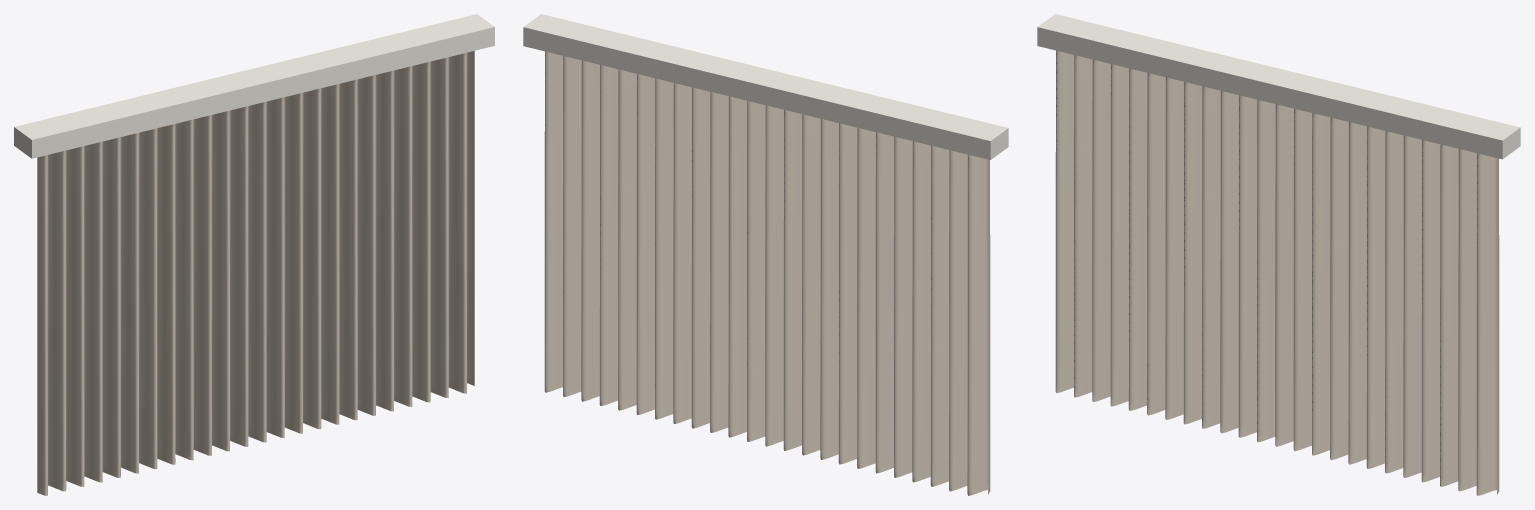
Rendered from curtain-elogi-1230-1.glb.
The picture shows the model from 3 angles, left to right: view 1: azimuth 30°, elevation 25°; view 2: azimuth 150°, elevation 25°; view 3: azimuth 330°, elevation 25°; orthographic projection.
Parts seen in each view (by area): view 1: OuterDrapeLeft, OuterDrapeRight, CeilingPelmetBox; view 2: OuterDrapeLeft, OuterDrapeRight, CeilingPelmetBox; view 3: OuterDrapeRight, OuterDrapeLeft, CeilingPelmetBox.
Part boxes in pixels (x1,y1,x2,y2): OuterDrapeLeft: (37, 104, 255, 495); OuterDrapeRight: (256, 51, 474, 442); CeilingPelmetBox: (14, 14, 494, 158); OuterDrapeLeft: (765, 105, 990, 495); OuterDrapeRight: (544, 51, 765, 441); CeilingPelmetBox: (523, 14, 1008, 159); OuterDrapeRight: (1275, 104, 1499, 495); OuterDrapeLeft: (1055, 50, 1275, 442); CeilingPelmetBox: (1037, 14, 1520, 159).
Bounding box in the file's own units: 3.6 × 2.68 × 0.24.
